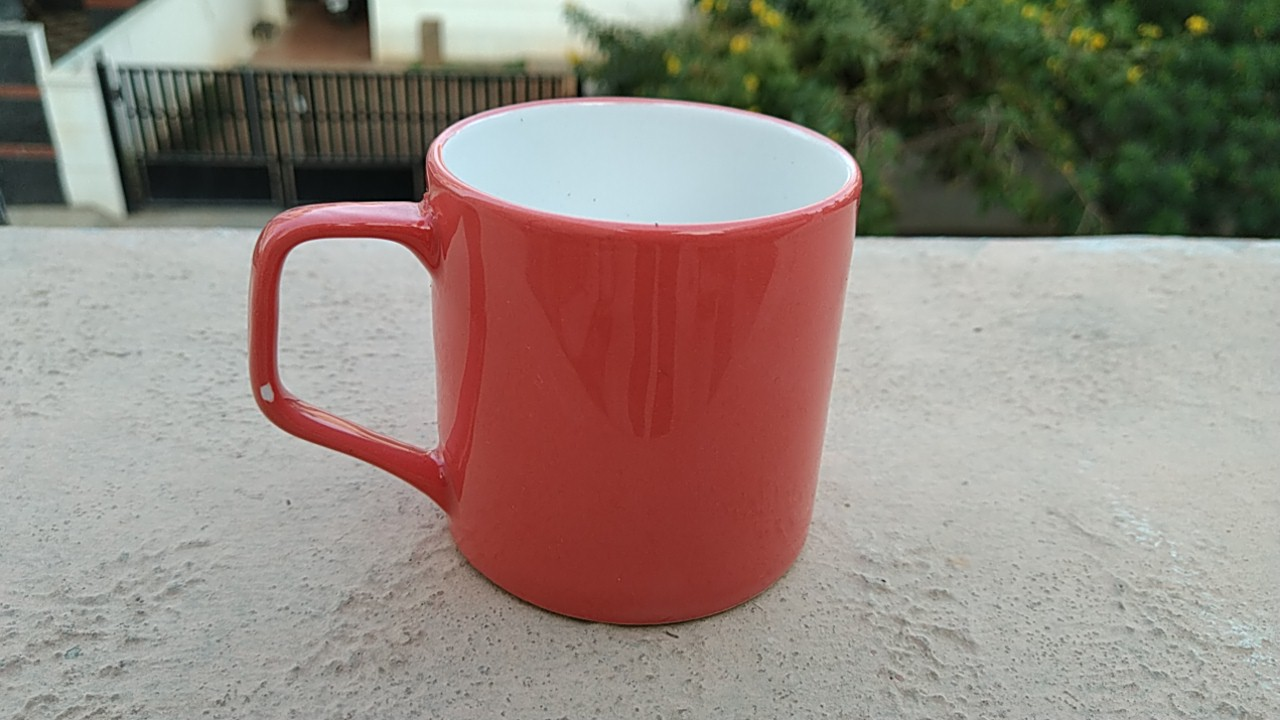cup: (230, 89, 871, 640)
